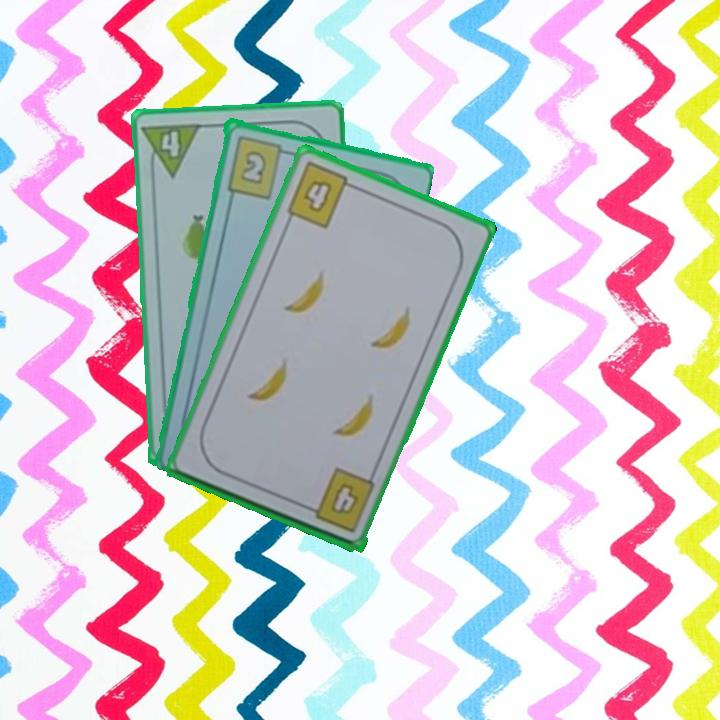2b: (223, 132, 293, 201)
4b: (283, 158, 361, 232), (300, 464, 378, 536)
4p: (139, 119, 204, 181)
